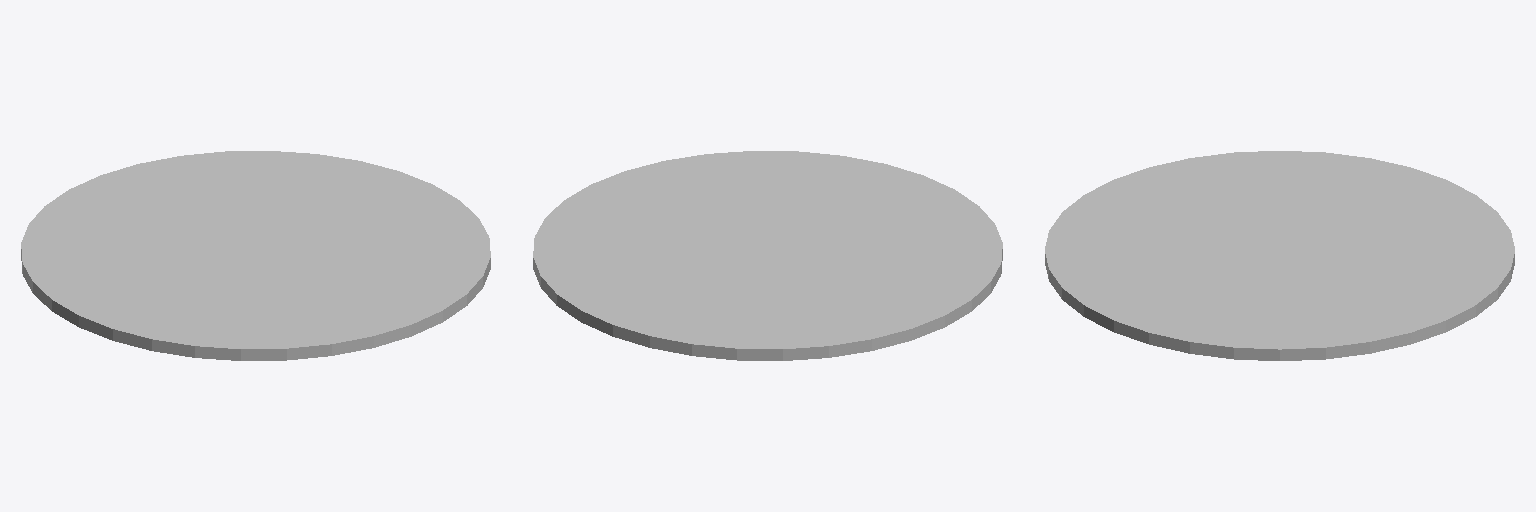
File: cirlkle.obj
3 views of the same model, side by side, from view 1: azimuth 30°, elevation 25°; view 2: azimuth 150°, elevation 25°; view 3: azimuth 270°, elevation 25° (orthographic).
Visible parts, largest first — view 1: Circle; view 2: Circle; view 3: Circle.
Part boxes in pixels (bbox=[...]): Circle: bbox=[21, 151, 490, 360]; Circle: bbox=[533, 151, 1002, 360]; Circle: bbox=[1045, 151, 1514, 360].
Bounding box in the file's own units: 2 × 0.0555 × 2.